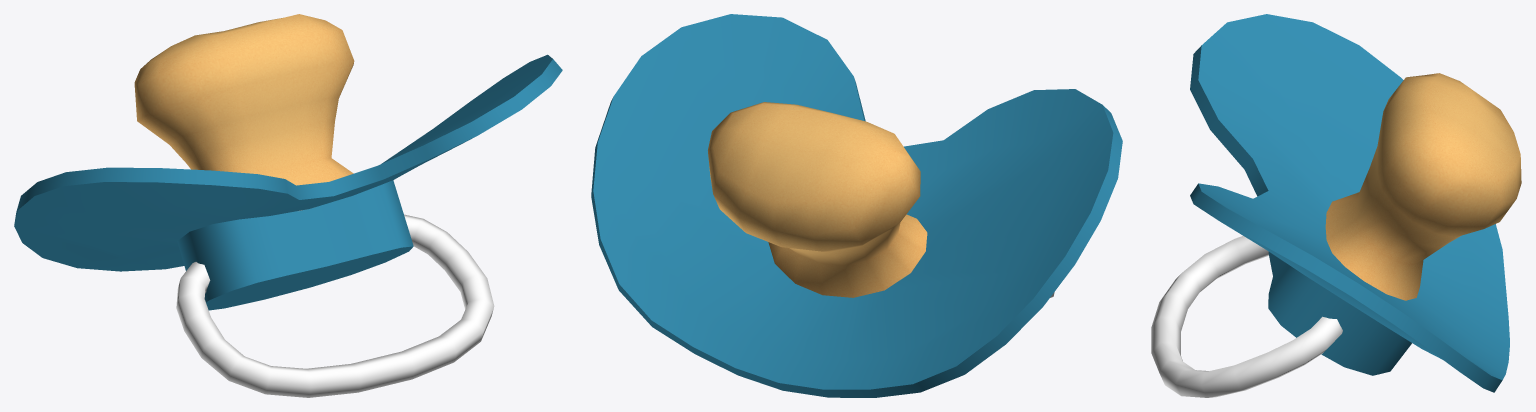
Rendered from Pacifier.fbx.
3 renders of one model, left to right at view 1: azimuth 30°, elevation 25°; view 2: azimuth 150°, elevation 25°; view 3: azimuth 270°, elevation 25°, orthographic. The views are drawn at different scales.
Visible parts, largest first — view 1: Pacifier; view 2: Pacifier; view 3: Pacifier.
Part boxes in pixels (<box>): Pacifier: <box>14,14,562,397</box>; Pacifier: <box>591,14,1122,397</box>; Pacifier: <box>1151,14,1521,397</box>.
Bounding box in the file's own units: 1.47 × 0.7238 × 0.9368.
Materials: 1 (1 with a texture image).
